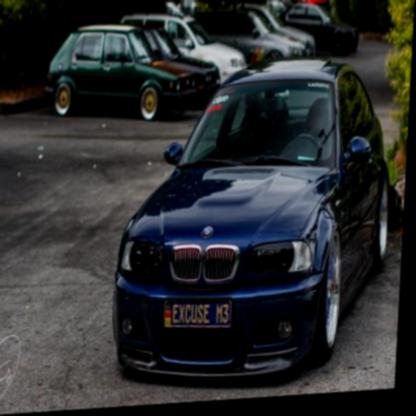License_Plate: (164, 296, 233, 333)
